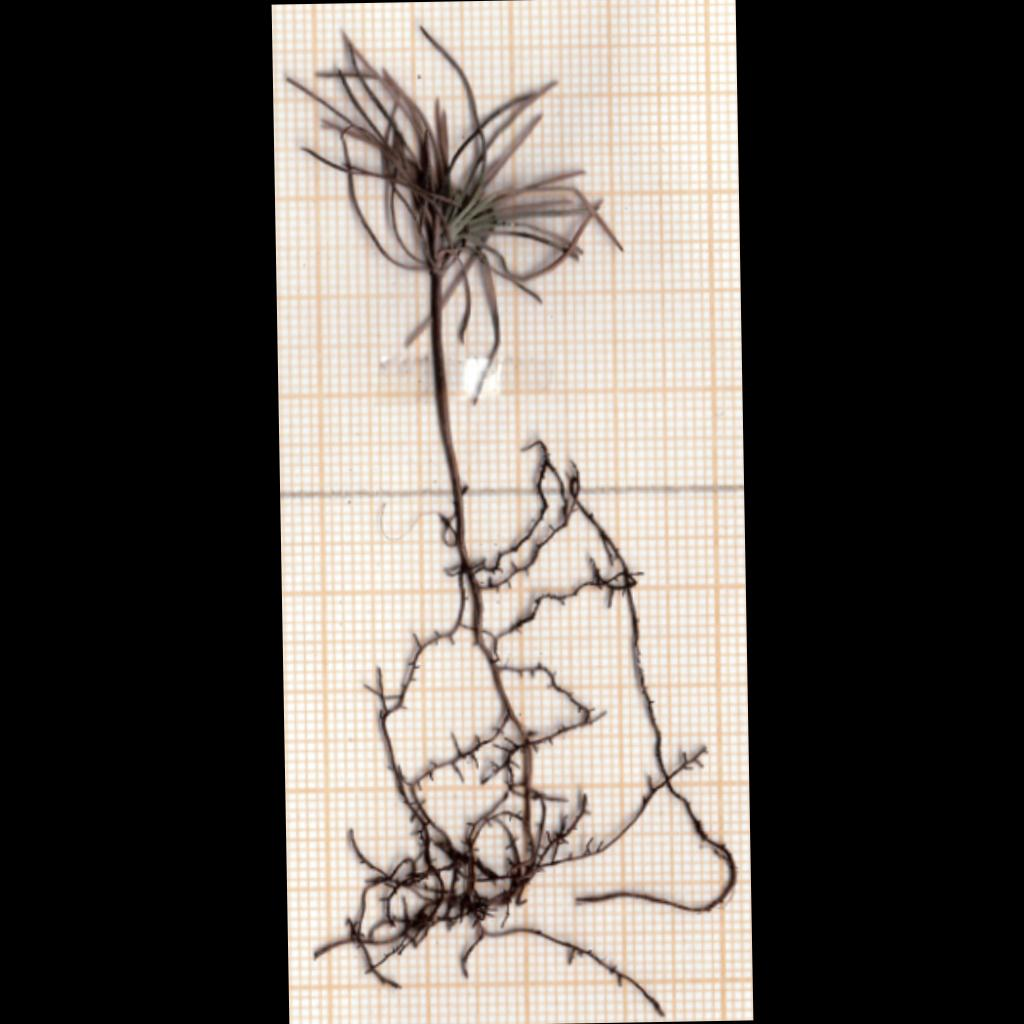flowerCedr: (289, 29, 623, 398)
rootCedr: (315, 442, 737, 988)
stemCedr: (430, 275, 467, 571)
